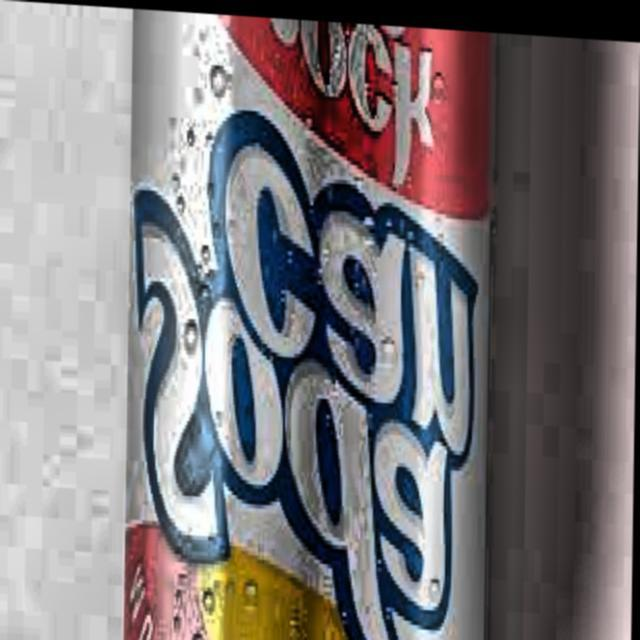can: (126, 7, 490, 640)
